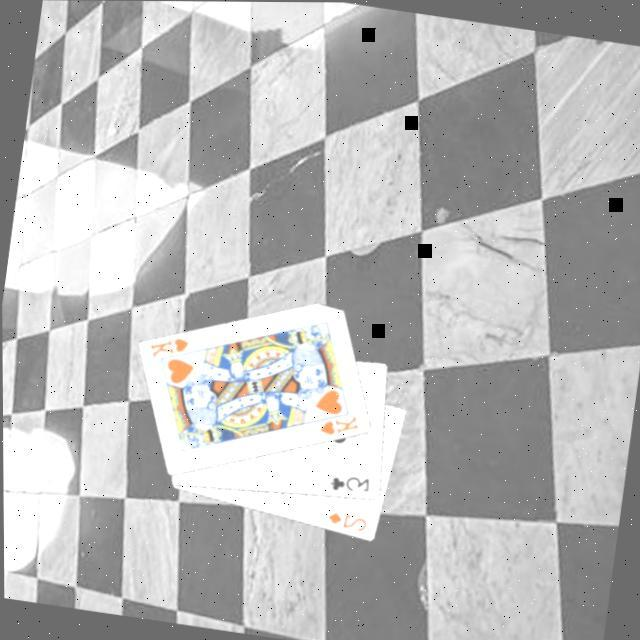2D: (321, 506, 367, 533)
3C: (323, 468, 371, 497)
KH: (143, 328, 191, 364), (313, 406, 360, 440)
